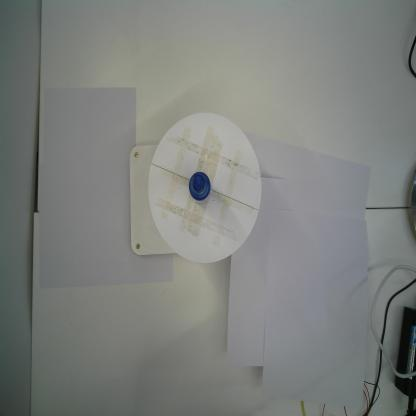Personal Hygiene: (188, 171, 212, 205)
